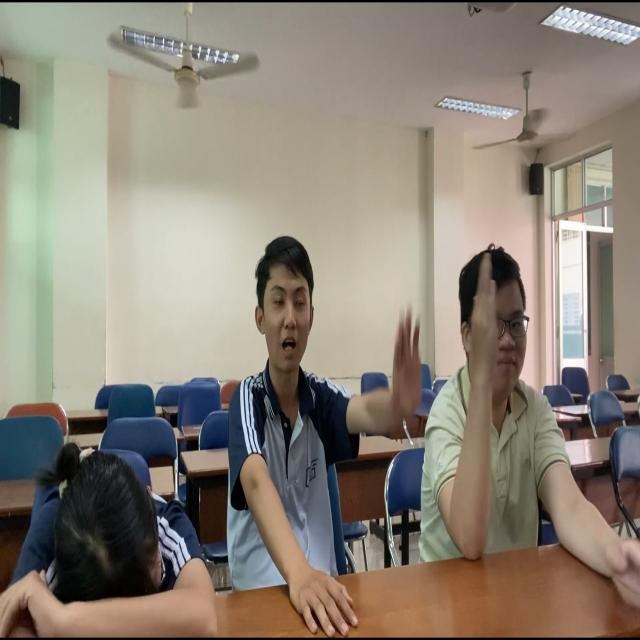raise_hand: (423, 238, 586, 569)
sleep: (7, 439, 221, 640)
